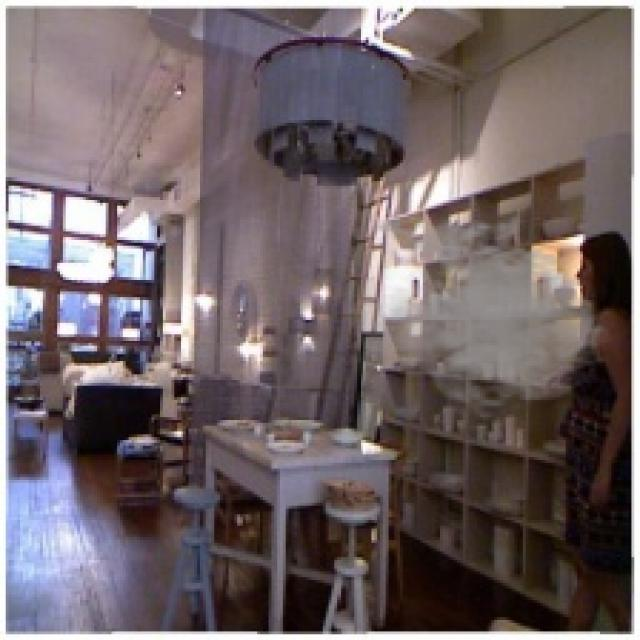smoke: (332, 208, 614, 423)
